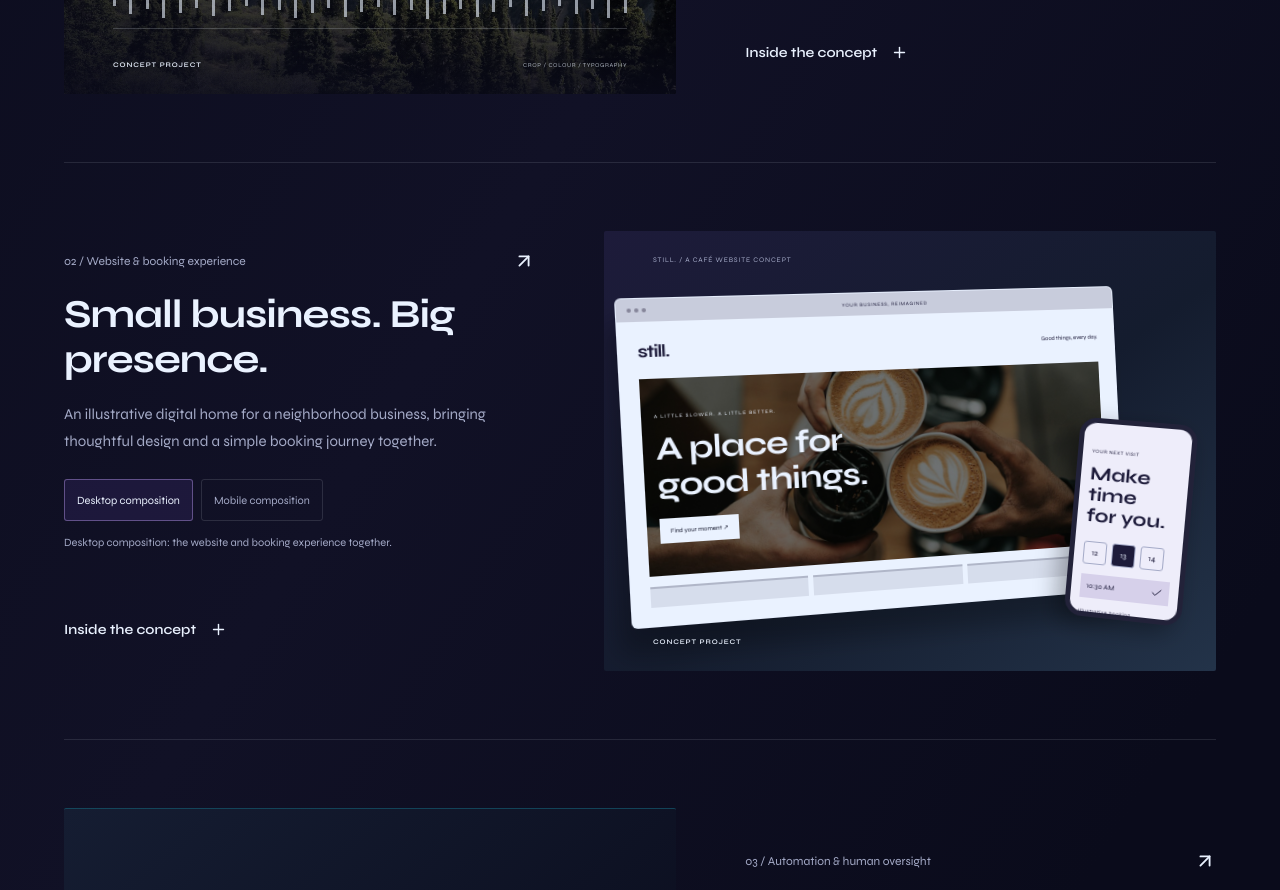
Test case: editorial concept studies › recomposes the website and progresses a resettable, human-reviewed workflow
The image size is (1280, 890).
(page scrolled)
Click the button "Mobile composition" at (262, 500), box left=201, top=479, right=323, bottom=521
(page scrolled)
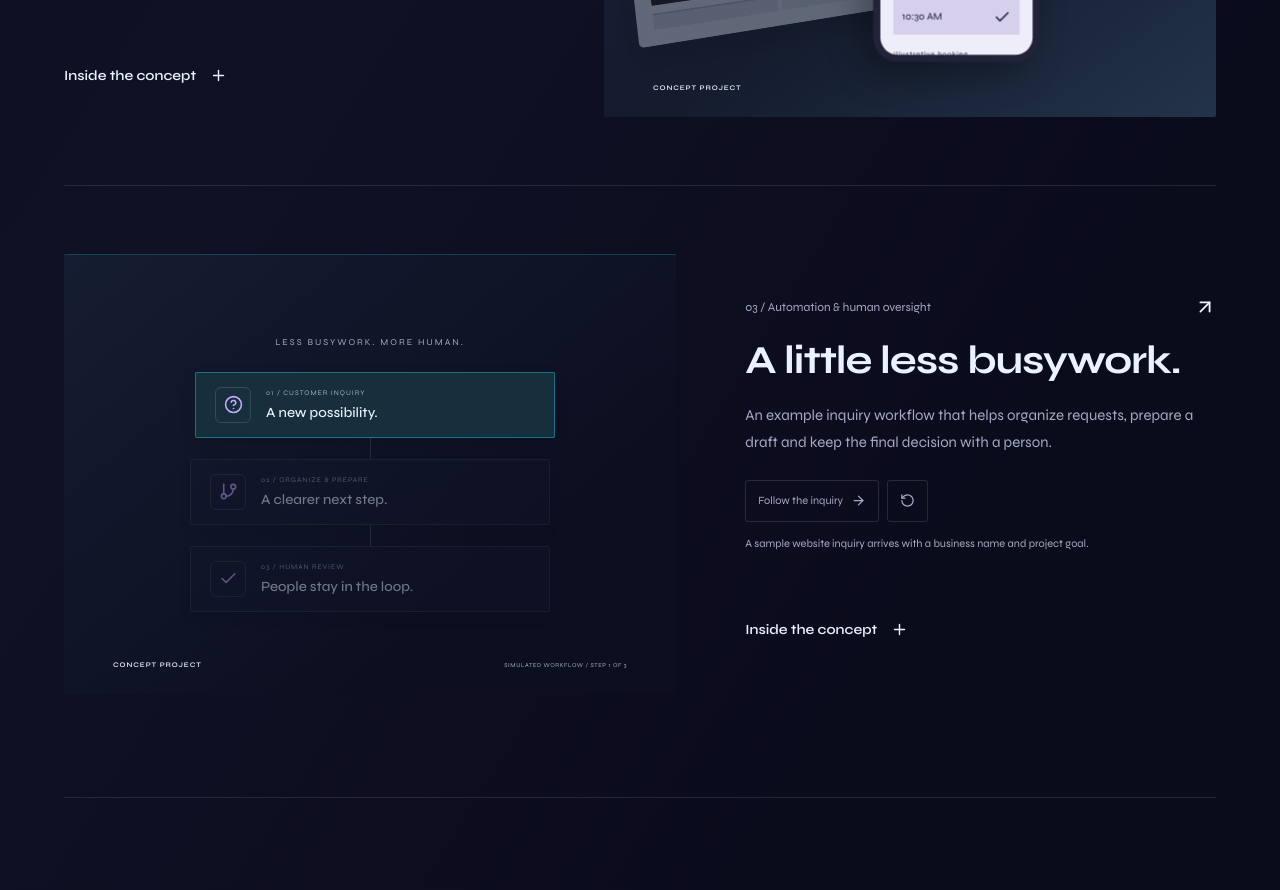
Click the button "Follow the inquiry" at (812, 501), box left=745, top=480, right=879, bottom=522
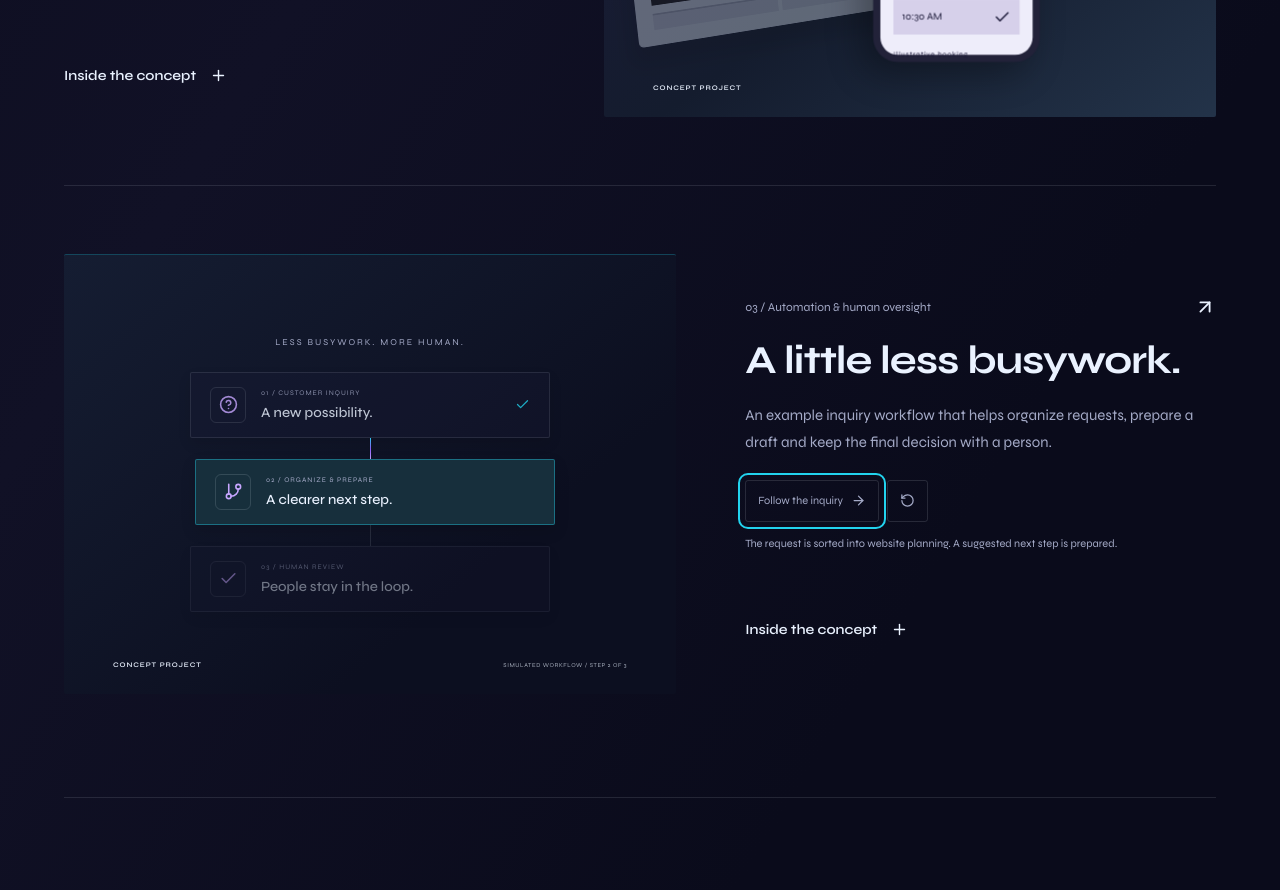
Expected: the 2nd message shows "sorted into website planning", left=745, top=537, right=1117, bottom=550
Click the button "Follow the inquiry" at (812, 501), box left=745, top=480, right=879, bottom=522
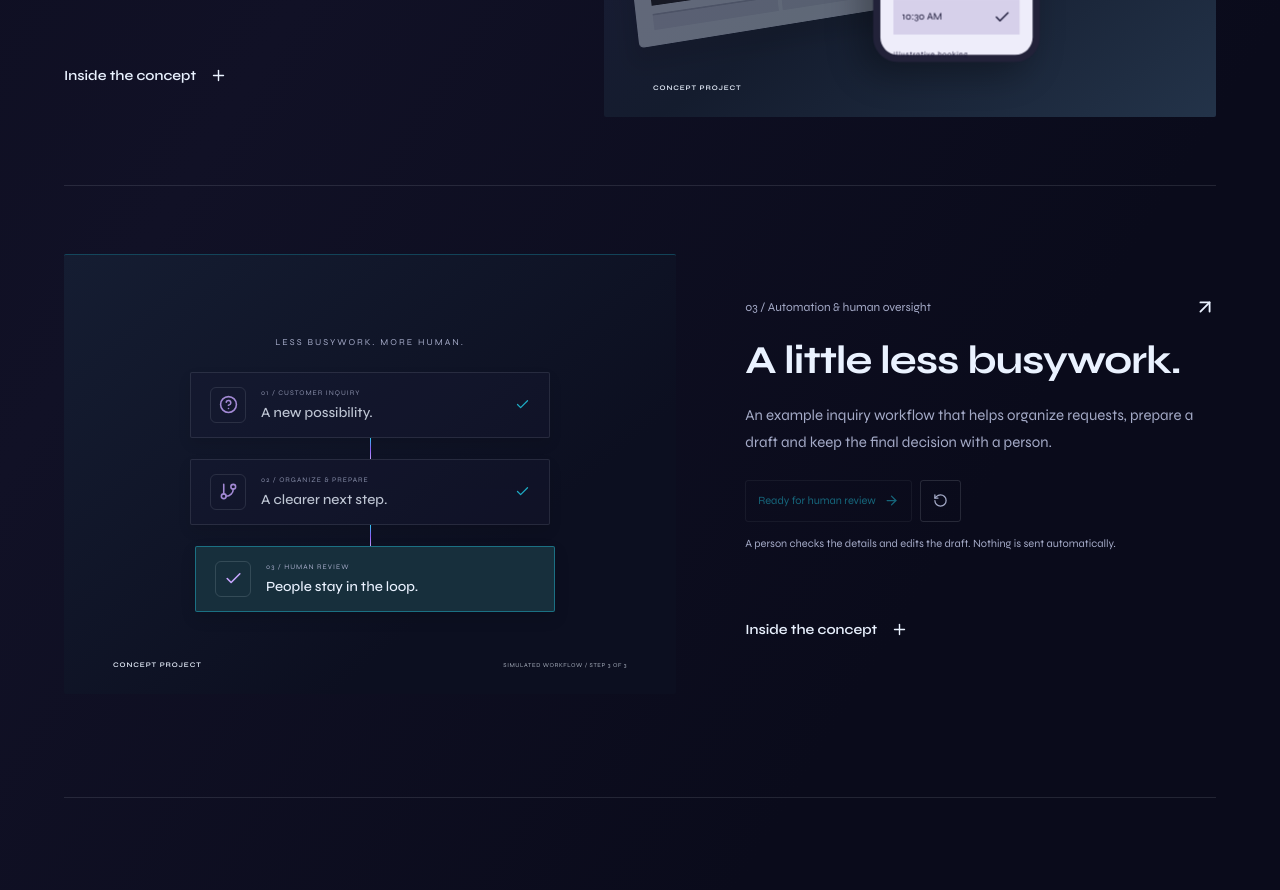
Expected: the 2nd message shows "Nothing is sent automatically", left=745, top=537, right=1116, bottom=550
Expected: the button "Ready for human review" is disabled, left=745, top=480, right=912, bottom=522
Click the button named "Reset concept workflow" at (940, 501), box left=920, top=480, right=961, bottom=522
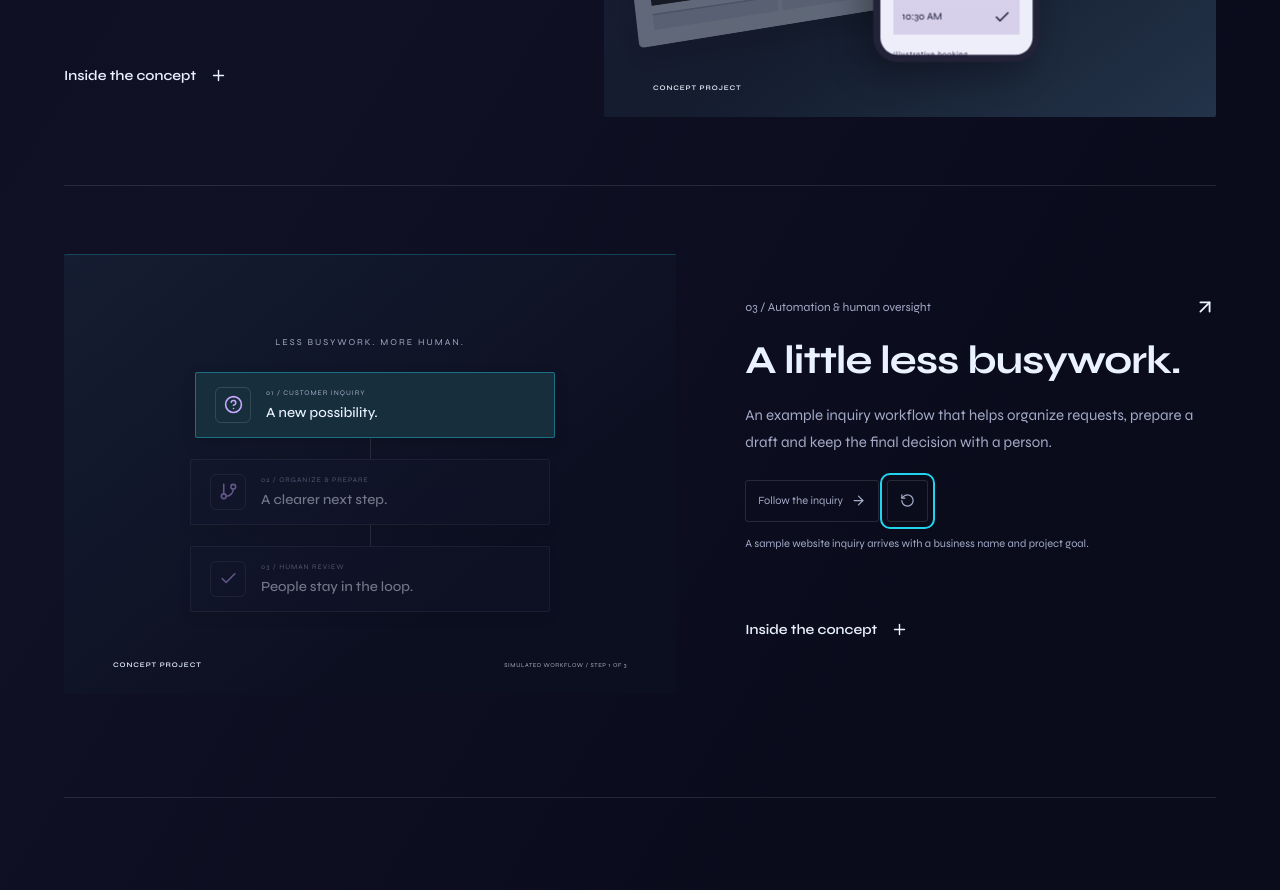
Expected: the message "A sample website inquiry arrives with a business name and project goal." is shown, left=745, top=537, right=1089, bottom=550
